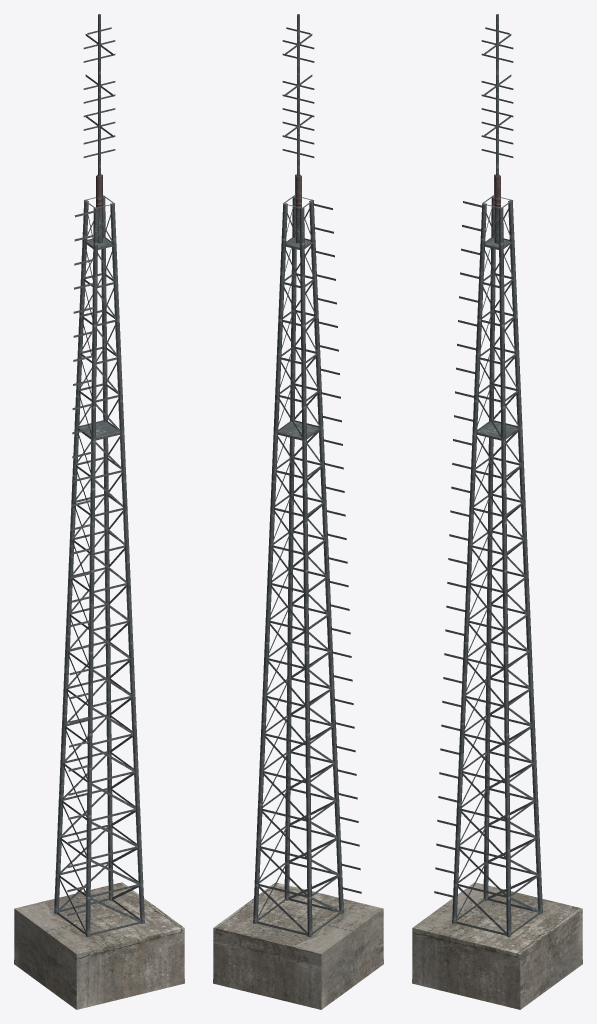
Rendered from Mast1_LOD1.fbx.
3 renders of one model, left to right at view 1: azimuth 30°, elevation 25°; view 2: azimuth 150°, elevation 25°; view 3: azimuth 330°, elevation 25°, orthographic.
Visible parts, largest first — view 1: polySurface382; view 2: polySurface382; view 3: polySurface382.
Boxes of the visible parts, box(x1,y1,x2,y2) form: polySurface382: box(14, 14, 184, 1009); polySurface382: box(213, 14, 383, 1009); polySurface382: box(412, 14, 582, 1009).
Size of the model in its own units: 3.96 by 33.57 by 3.96.
Materials: 2 (2 with a texture image).
